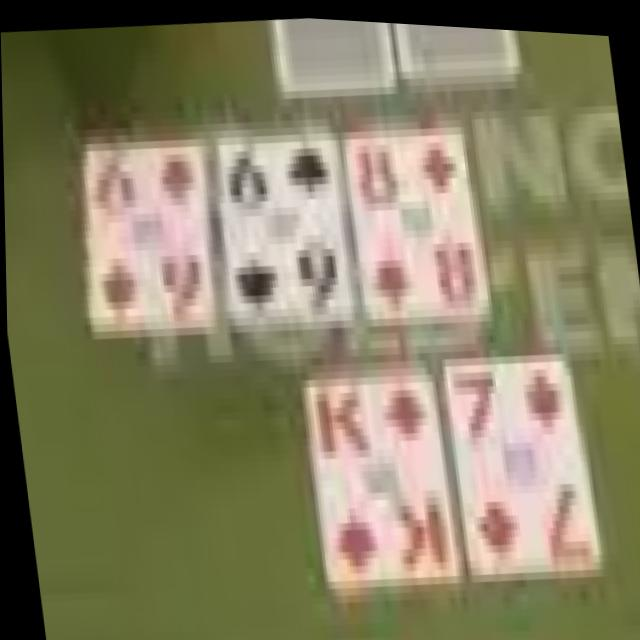Card-6: (219, 131, 350, 326), (84, 137, 212, 336)
Card-7: (443, 348, 597, 574)
Card-8: (341, 121, 485, 318)
Card-K: (300, 366, 453, 575)
